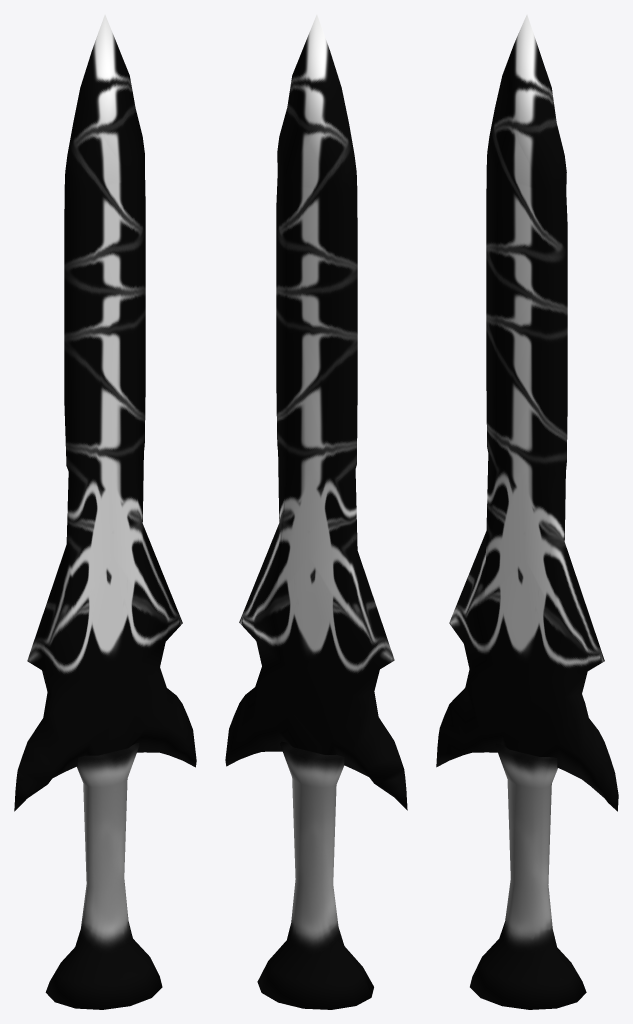
File: 706534Sword.fbx
3 renders of one model, left to right at view 1: azimuth 30°, elevation 25°; view 2: azimuth 150°, elevation 25°; view 3: azimuth 330°, elevation 25°, orthographic.
Parts seen in each view (by area): view 1: Cylinder; view 2: Cylinder; view 3: Cylinder.
Part boxes in pixels (bbox=[...]): Cylinder: bbox=[14, 14, 196, 1009]; Cylinder: bbox=[225, 14, 407, 1009]; Cylinder: bbox=[436, 14, 618, 1009].
Size of the model in its own units: 164 by 840 by 80.12.
1 material, 1 textured.
